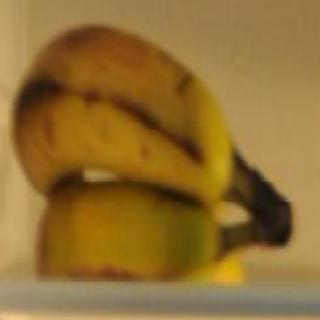banana: (1, 2, 320, 320)
